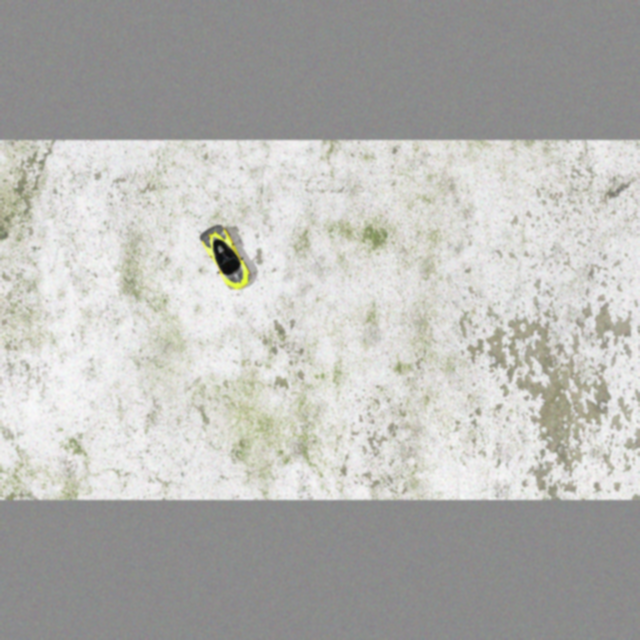car: (195, 219, 257, 294)
